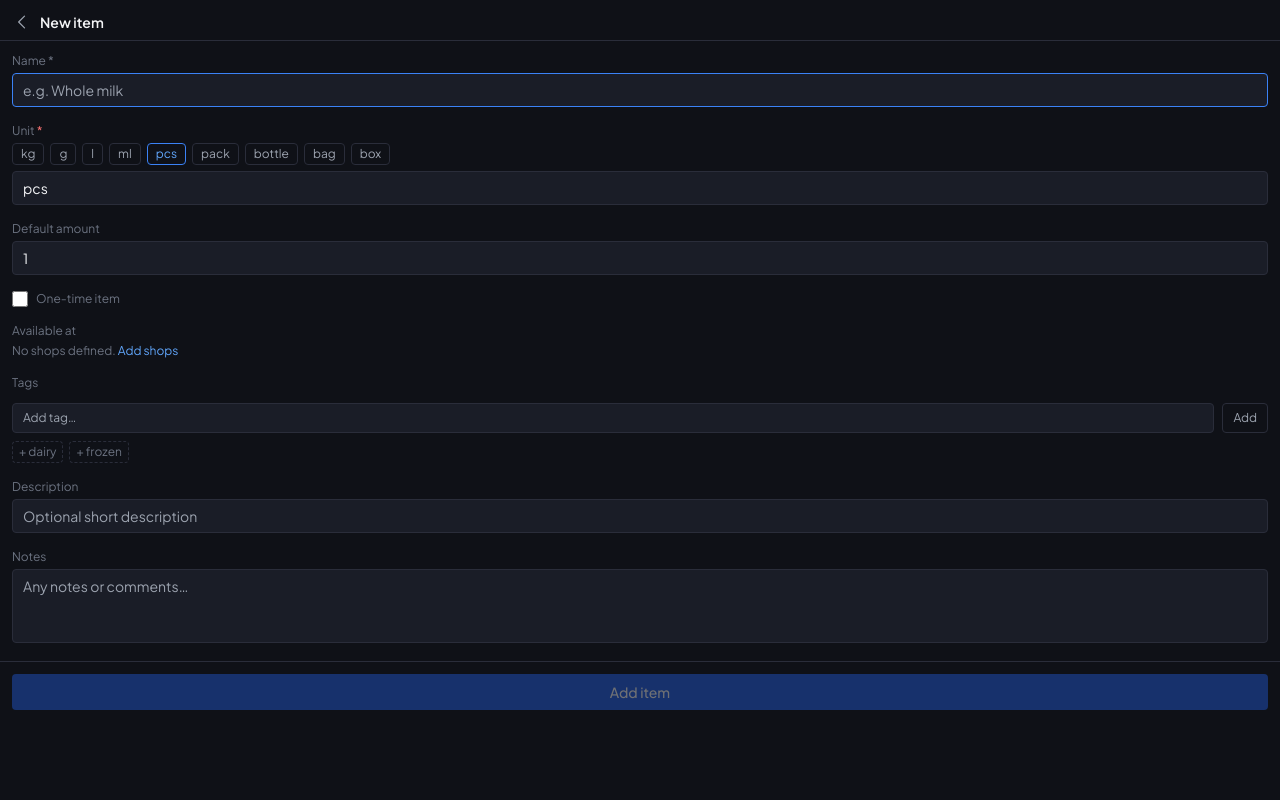
Scenario: ItemDetailScreen — tag filtering › clicking a tag from the list adds it to selected tags
The image size is (1280, 800).
What coordinates should you click on to do the following:
click the button "+ dairy"
I would click on:
 (38, 452)
Its box is [12,441,63,463].
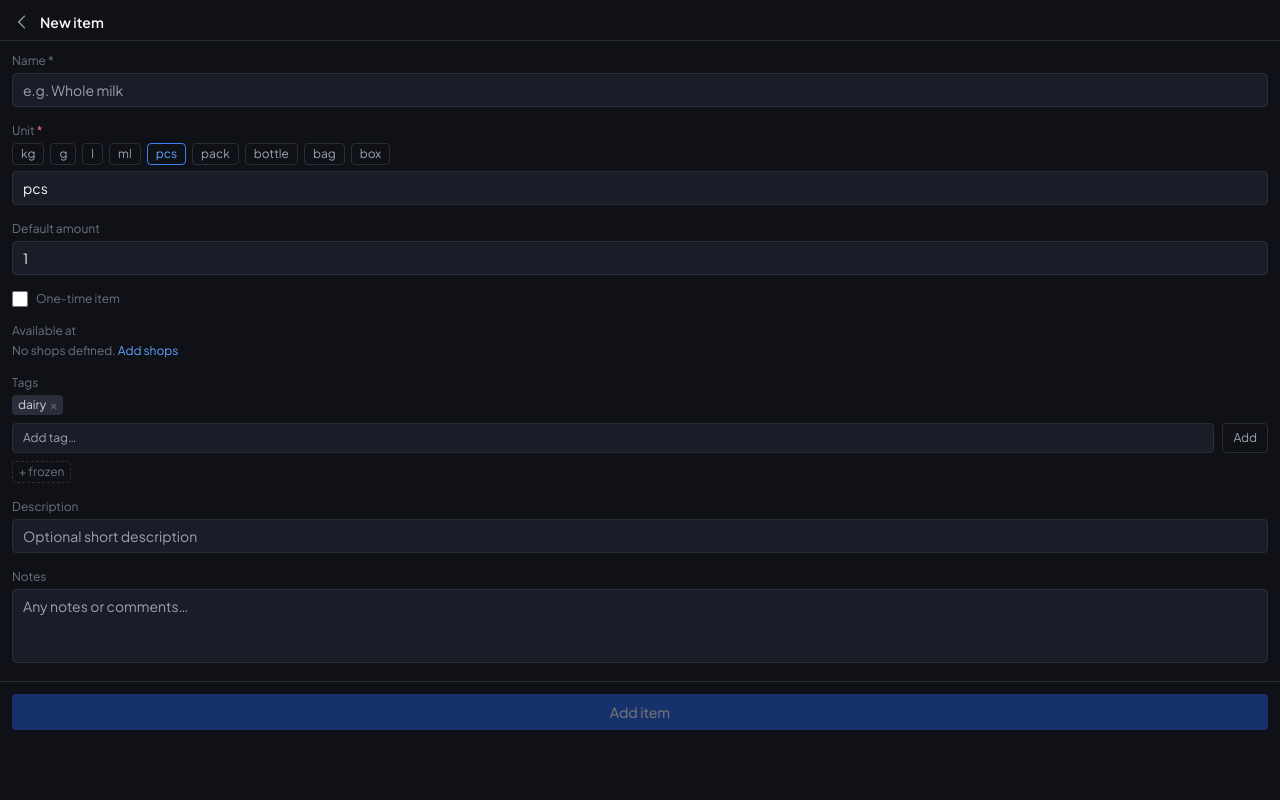
Now the text "dairy" is shown, box [18,397,46,412]
Now the button "+ dairy" is gone
